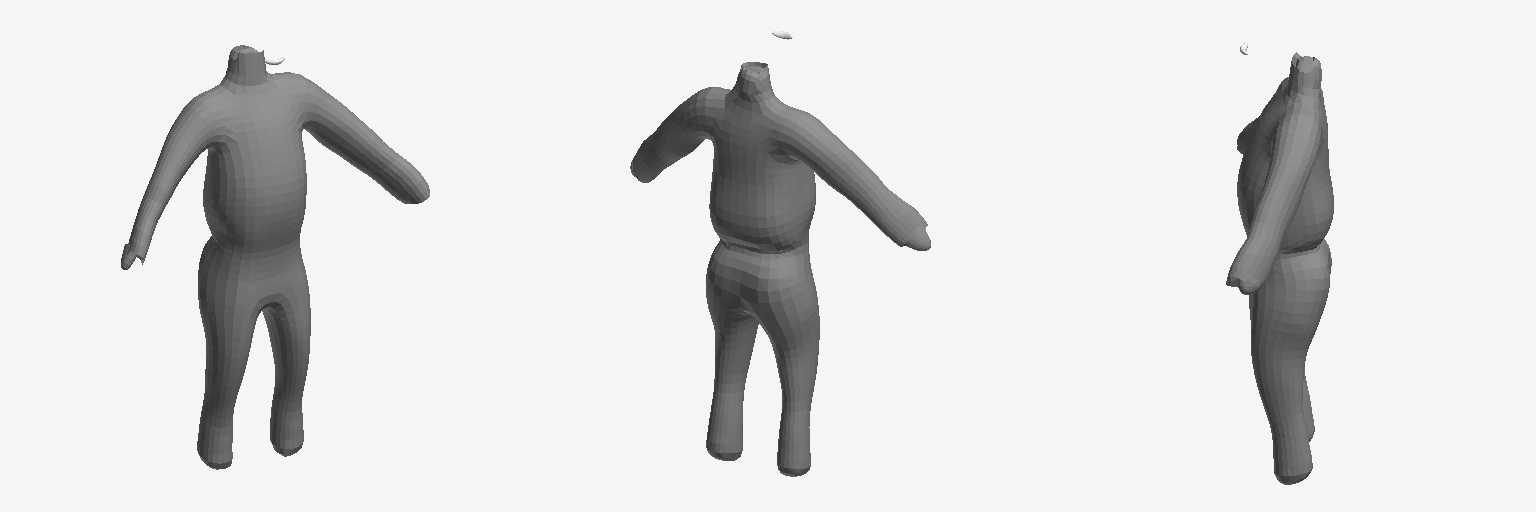
File: TorsoPierna.obj
3 views of the same model, side by side, from view 1: azimuth 30°, elevation 25°; view 2: azimuth 150°, elevation 25°; view 3: azimuth 270°, elevation 25° (orthographic).
Parts seen in each view (by area): view 1: char2; view 2: char2; view 3: char2.
Part boxes in pixels (left/top/right/bottom): char2: left=121, top=45, right=429, bottom=469; char2: left=630, top=31, right=930, bottom=476; char2: left=1226, top=43, right=1333, bottom=484.
Size of the model in its own units: 6.03 by 7.91 by 1.85.